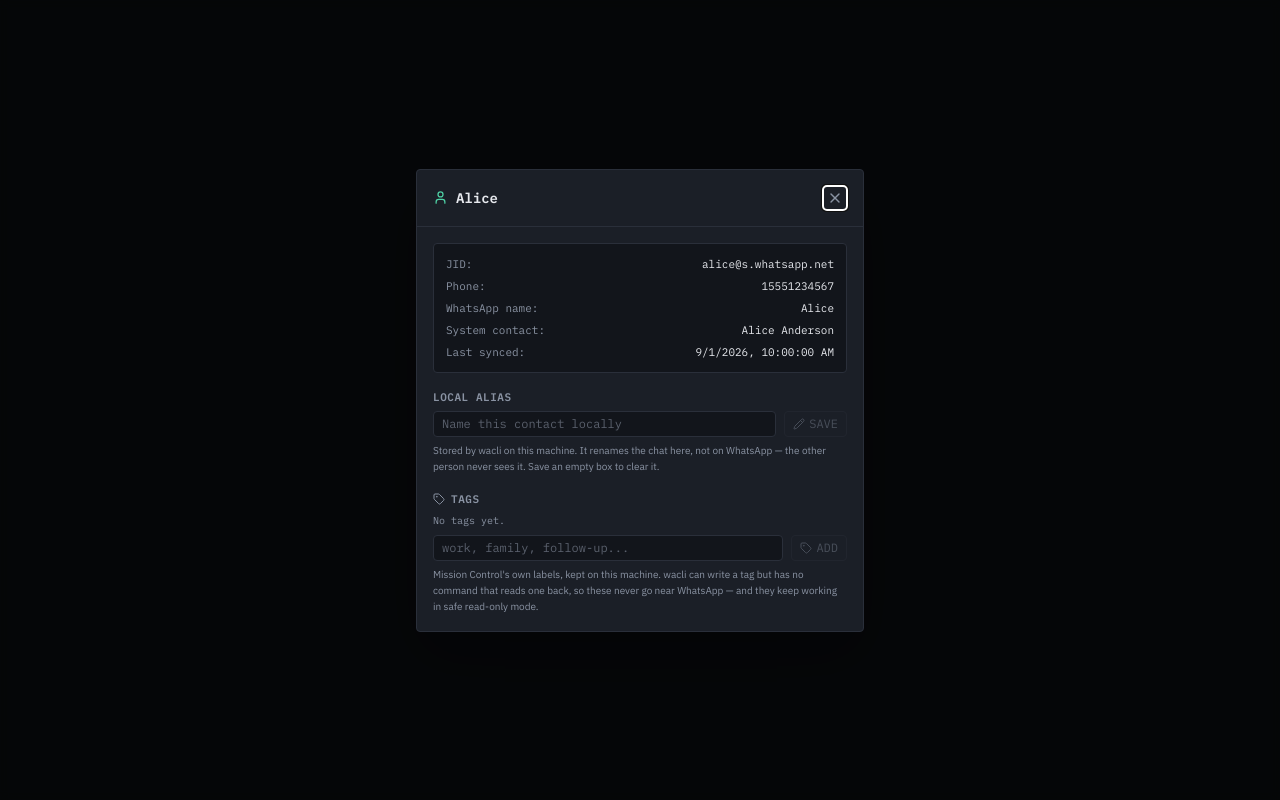
Test: ChatInfoModal › reports a failed alias save
Type "X" into the field named "Local alias" at (605, 424), box [433, 410, 776, 436]
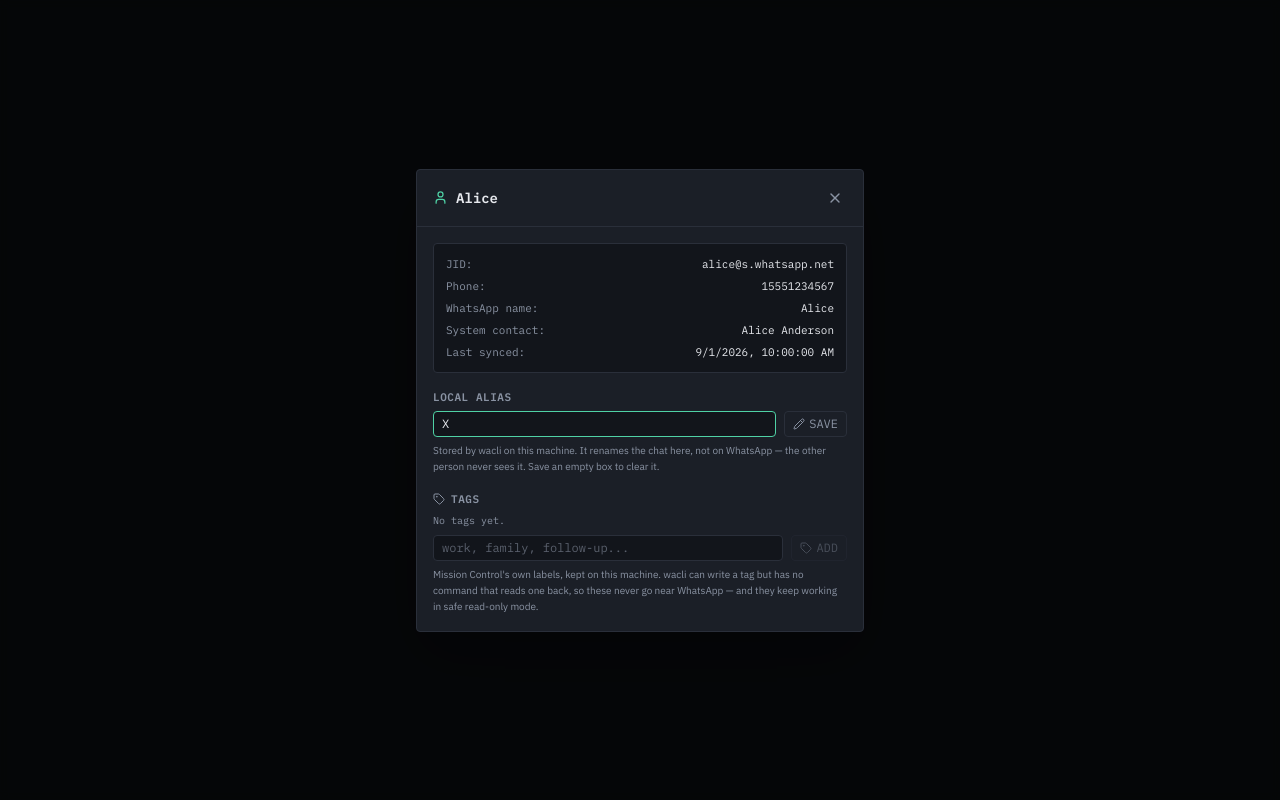
Click the button "SAVE" at (816, 424), box [784, 410, 847, 436]
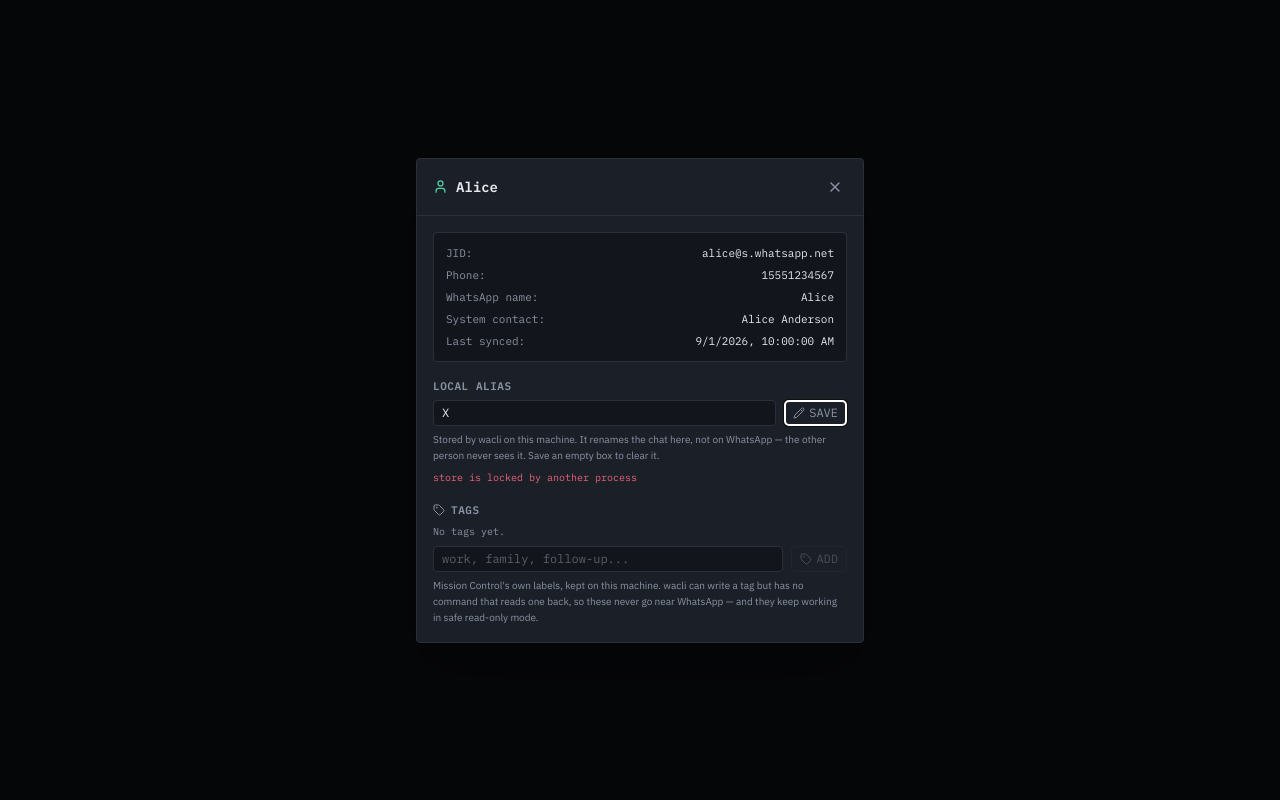
Check: the text "store is locked by another process" is shown, box [433, 470, 637, 484]
